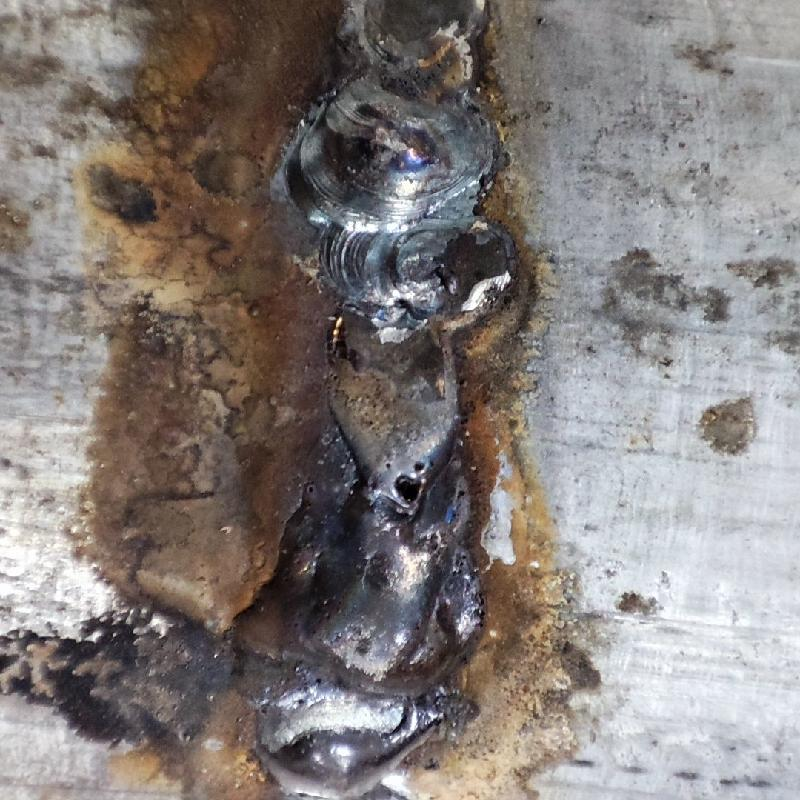Not_fully_soldered: (314, 229, 516, 508)
Surface_pores: (378, 454, 441, 506)
Weld: (228, 497, 480, 795)
wrong_size: (296, 3, 492, 229)
